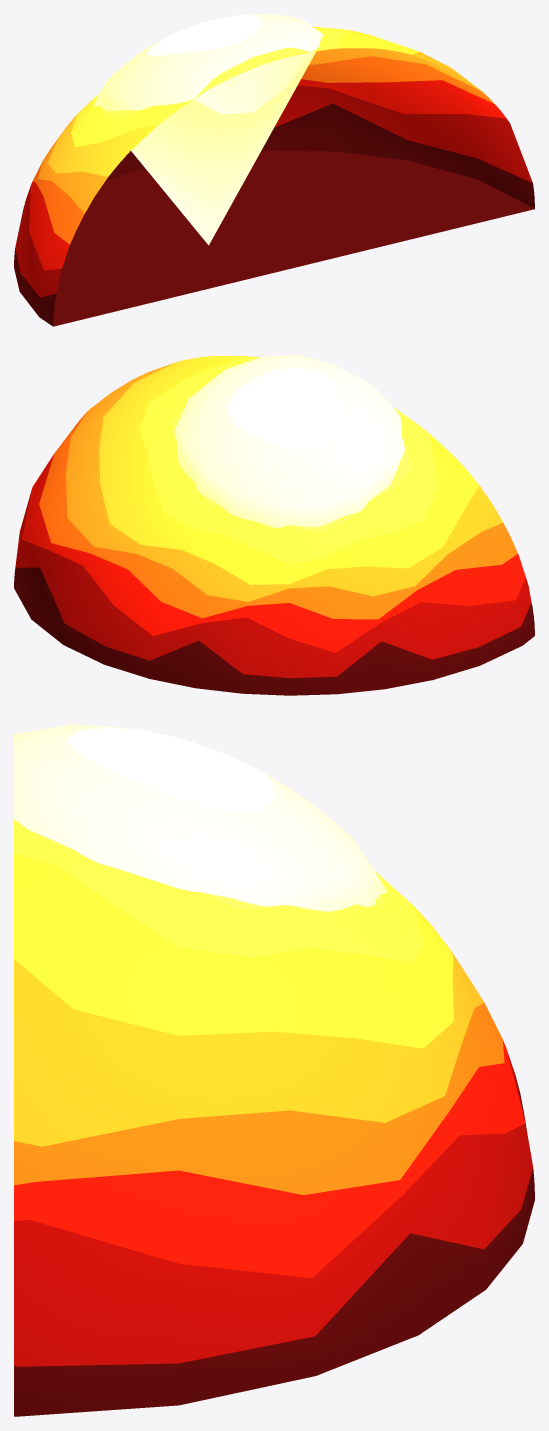
File: shot_charge_b187.glb
3 views of the same model, one above another, from view 1: azimuth 30°, elevation 25°; view 2: azimuth 150°, elevation 25°; view 3: azimuth 270°, elevation 25° (orthographic). The views are drawn at different scales.
Visible parts, largest first — view 1: charge_twin4_b_fire_shot_charge_b187, charge_twin4_b_core_shot_charge_b187; view 2: charge_twin4_b_fire_shot_charge_b187, charge_twin4_b_core_shot_charge_b187; view 3: charge_twin4_b_fire_shot_charge_b187, charge_twin4_b_core_shot_charge_b187.
Part boxes in pixels (<box>): charge_twin4_b_fire_shot_charge_b187: <box>14,26,534,326</box>; charge_twin4_b_core_shot_charge_b187: <box>94,14,323,245</box>; charge_twin4_b_fire_shot_charge_b187: <box>14,356,534,695</box>; charge_twin4_b_core_shot_charge_b187: <box>174,355,404,527</box>; charge_twin4_b_fire_shot_charge_b187: <box>14,819,534,1416</box>; charge_twin4_b_core_shot_charge_b187: <box>14,724,387,911</box>.
Size of the model in its own units: 11.97 by 5.37 by 6.
